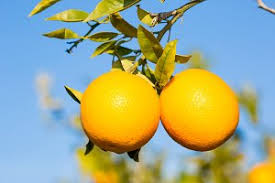orange: (158, 66, 241, 152), (80, 66, 160, 152)
